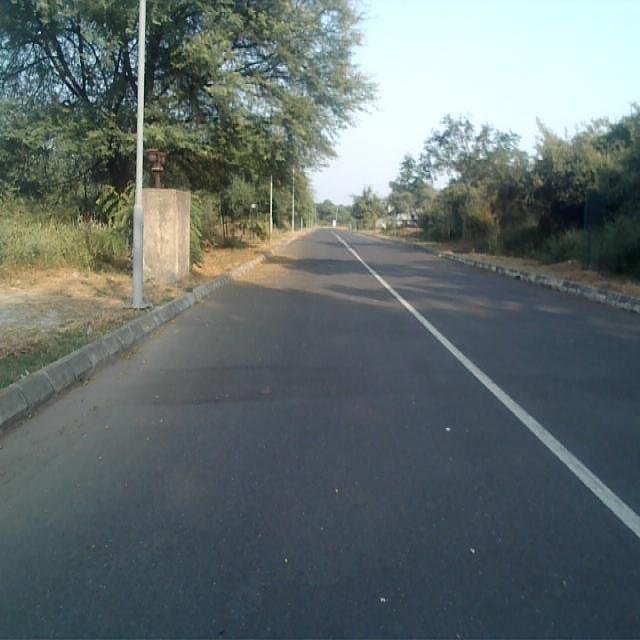lane: (0, 230, 640, 640)
